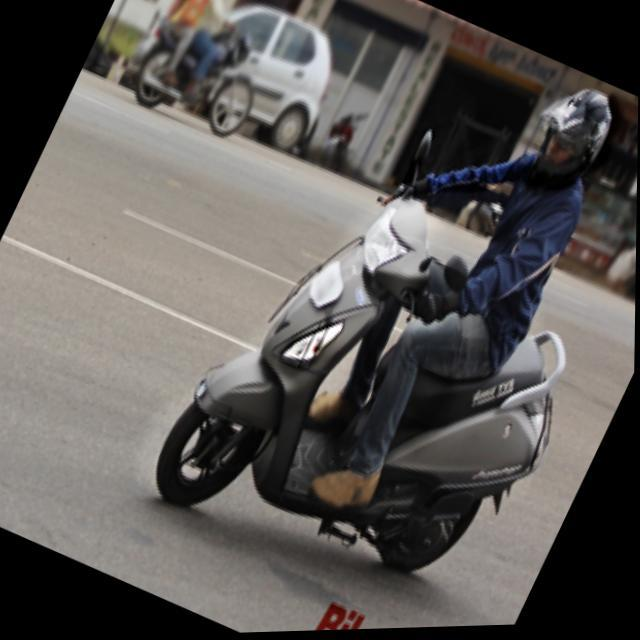Helmet: (522, 79, 618, 187)
